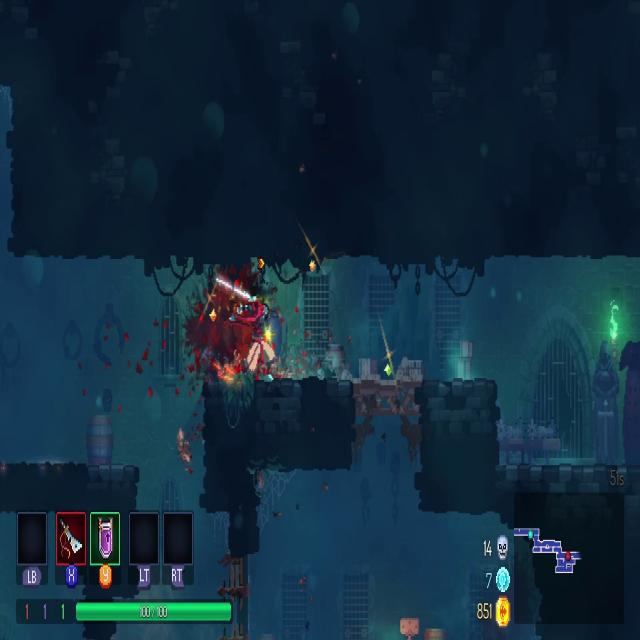agents: (238, 283, 284, 379)
wood_floor: (354, 377, 422, 422)
